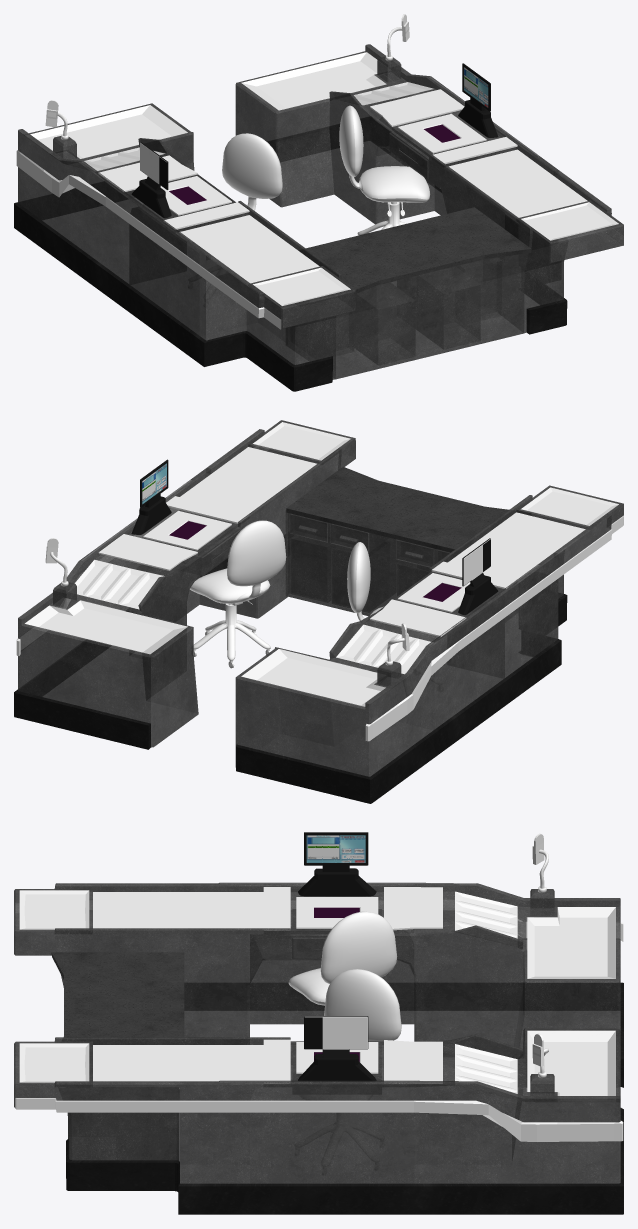
File: supermarket_checkout.glb
3 renders of one model, top to bottom at view 1: azimuth 30°, elevation 25°; view 2: azimuth 150°, elevation 25°; view 3: azimuth 270°, elevation 25°, orthographic. The views are drawn at different scales.
Visible parts, largest first — view 1: Double Checkout.002, Double Checkout.012, Double Checkout.010, Double Checkout.001, Double Checkout.013, Double Checkout.018, Double Checkout.014, Double Checkout.008, Double Checkout.017, Double Checkout.015, Double Checkout.009, Double Checkout.011 (+1 smaller); view 2: Double Checkout.002, Double Checkout.012, Double Checkout.010, Double Checkout.001, Double Checkout.013, Double Checkout.014, Double Checkout.017, Double Checkout.008, Double Checkout.018, Double Checkout.016, Double Checkout.015, Double Checkout.009 (+1 smaller); view 3: Double Checkout.002, Double Checkout.010, Double Checkout.012, Double Checkout.001, Double Checkout.013, Double Checkout.014, Double Checkout.018, Double Checkout.017, Double Checkout.008, Double Checkout.009, Double Checkout.011, Double Checkout.006.
Boxes of the visible parts, x1,y1,x2,y2 form: Double Checkout.002: (18, 44, 623, 379); Double Checkout.012: (30, 52, 618, 305); Double Checkout.010: (14, 63, 567, 391); Double Checkout.001: (82, 82, 587, 283); Double Checkout.013: (306, 207, 531, 293); Double Checkout.018: (222, 105, 430, 199); Double Checkout.014: (16, 75, 623, 329); Double Checkout.008: (61, 55, 486, 215); Double Checkout.017: (242, 105, 428, 210); Double Checkout.015: (169, 124, 460, 204); Double Checkout.009: (464, 67, 488, 107); Double Checkout.011: (140, 142, 166, 183); Double Checkout.002: (18, 420, 623, 776); Double Checkout.012: (25, 422, 618, 706); Double Checkout.010: (14, 459, 567, 803); Double Checkout.001: (75, 447, 585, 674); Double Checkout.013: (286, 466, 508, 552); Double Checkout.014: (16, 445, 623, 741); Double Checkout.017: (189, 520, 364, 621); Double Checkout.008: (61, 511, 470, 665); Double Checkout.018: (191, 520, 383, 615); Double Checkout.016: (193, 600, 374, 671); Double Checkout.015: (169, 521, 461, 601); Double Checkout.009: (142, 463, 166, 504); Double Checkout.002: (14, 882, 620, 1183); Double Checkout.010: (66, 832, 623, 1214); Double Checkout.012: (19, 887, 615, 1095); Double Checkout.001: (93, 891, 517, 1093); Double Checkout.013: (51, 952, 184, 1037); Double Checkout.014: (15, 899, 623, 1141); Double Checkout.018: (289, 911, 401, 1041); Double Checkout.017: (288, 912, 401, 1033); Double Checkout.008: (296, 886, 546, 1077); Double Checkout.009: (306, 835, 365, 862); Double Checkout.011: (304, 1016, 367, 1049); Double Checkout.006: (532, 833, 544, 1066).
Size of the model in its own units: 8.88 by 3.76 by 11.02.
Materials: 19 (4 with a texture image).
